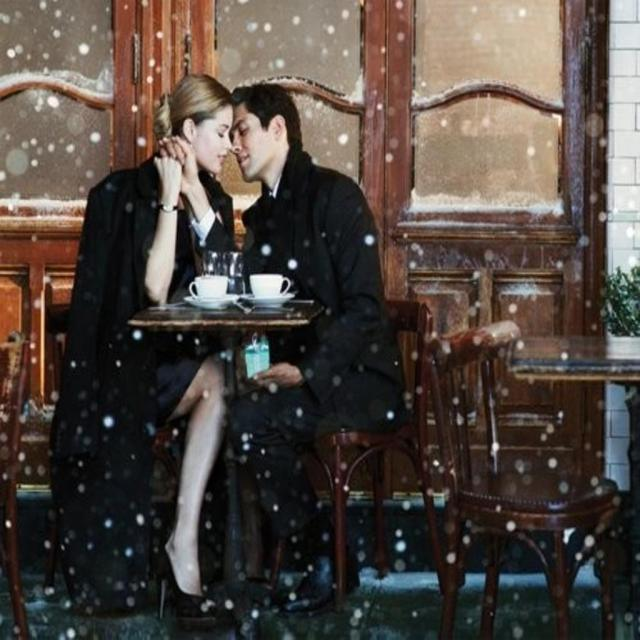nomask: (229, 104, 266, 178), (198, 106, 232, 174)
